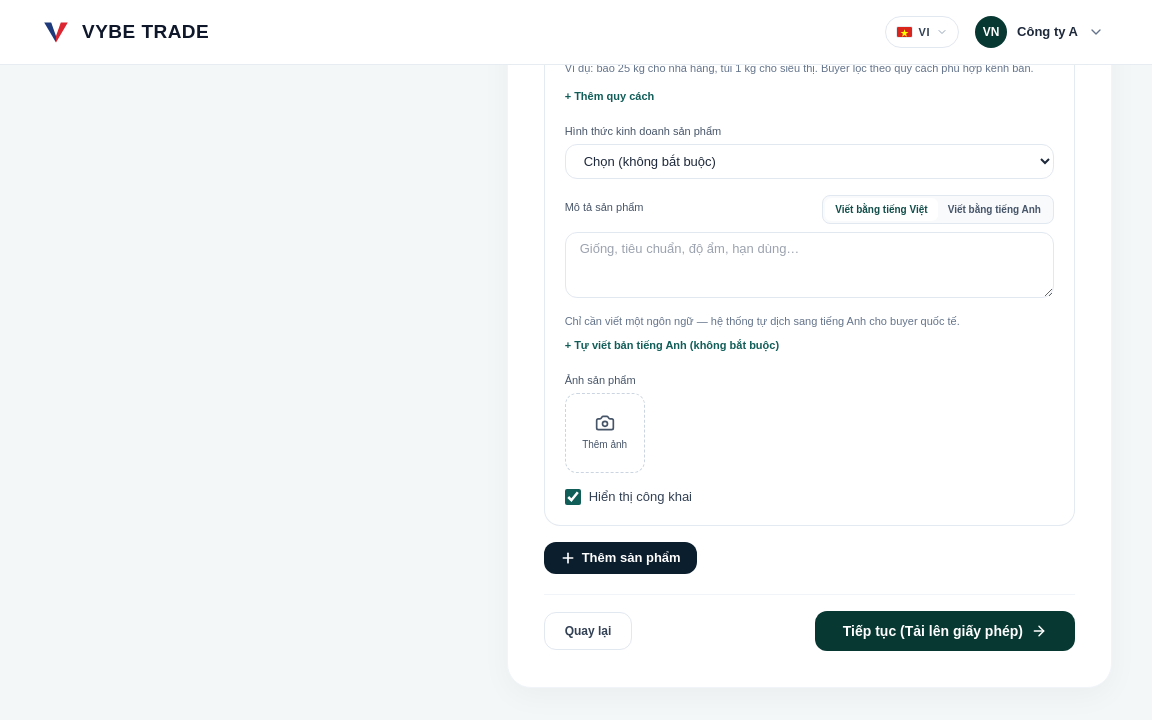
Test case: SellerOnboarding bước 2 — sản phẩm (B5) › sản phẩm hợp lệ thì sang bước 3, lỗi cũ được xóa
(page scrolled)
Click the button "Tiếp tục (Tải lên giấy phép)" at coordinates (945, 630), box [815,610,1075,650]
(page scrolled)
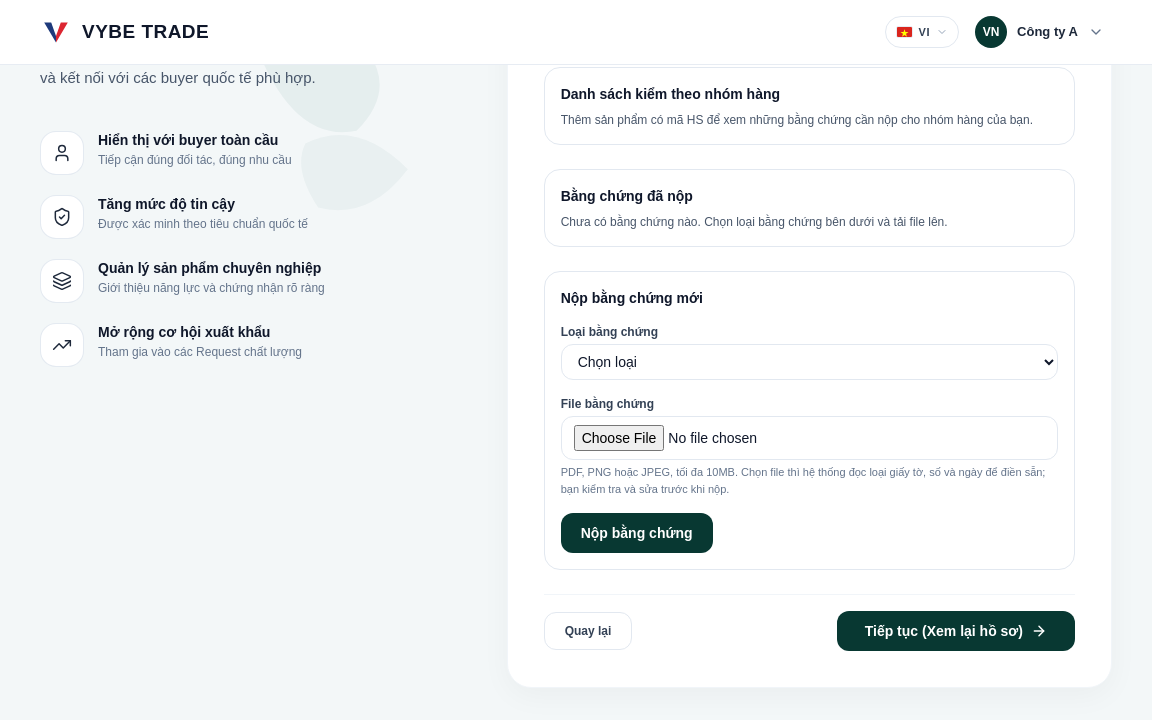
Expected: the button "Tiếp tục (Xem lại hồ sơ)" is shown, [837,611,1075,651]
